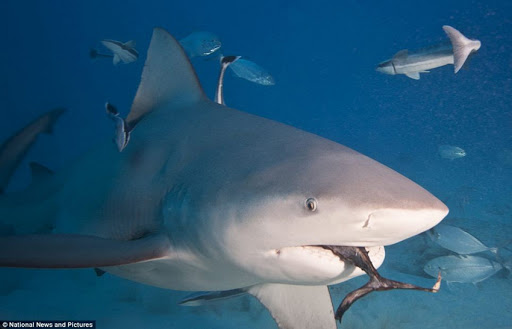shark: (1, 34, 480, 329)
